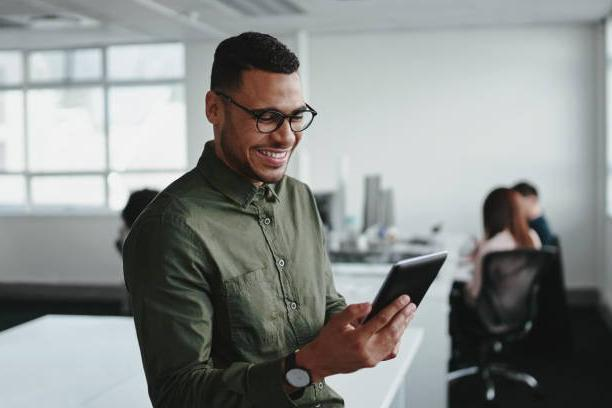Sober: (241, 78, 299, 175)
